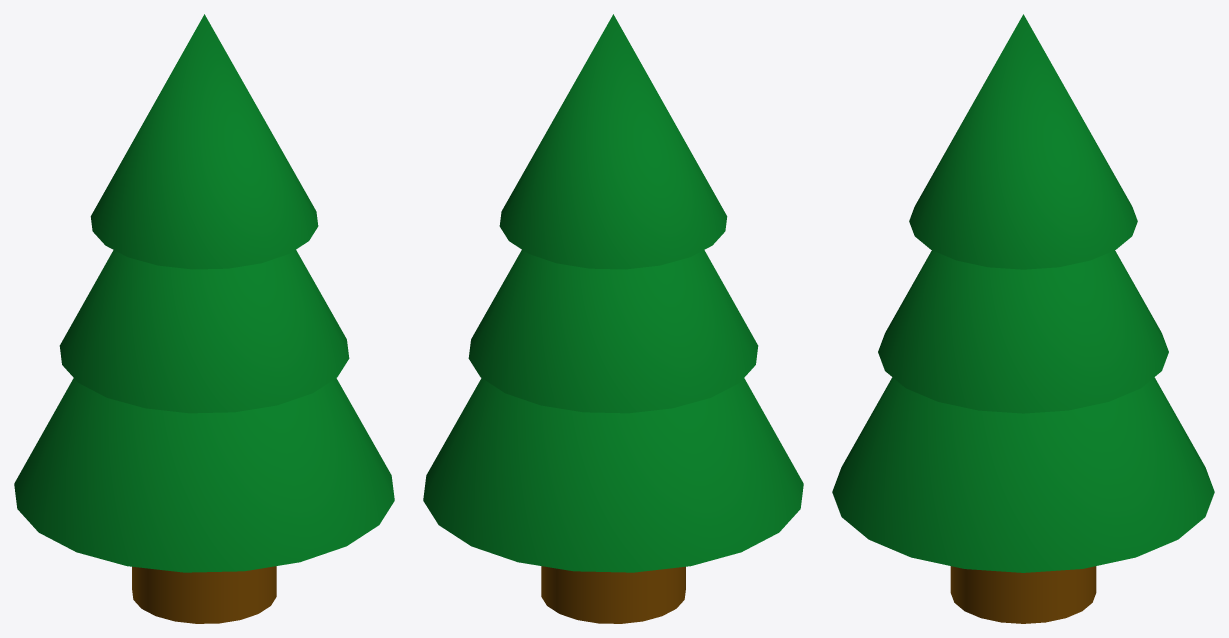
File: Platzhalter_Baum.fbx
3 renders of one model, left to right at view 1: azimuth 30°, elevation 25°; view 2: azimuth 150°, elevation 25°; view 3: azimuth 270°, elevation 25°, orthographic.
Visible parts, largest first — view 1: Platzhalter_Baum; view 2: Platzhalter_Baum; view 3: Platzhalter_Baum.
Boxes of the visible parts, <box> form: Platzhalter_Baum: <box>14,14,394,623</box>; Platzhalter_Baum: <box>423,14,803,623</box>; Platzhalter_Baum: <box>832,14,1214,623</box>.
Bounding box in the file's own units: 48.57 × 81.12 × 48.57.
